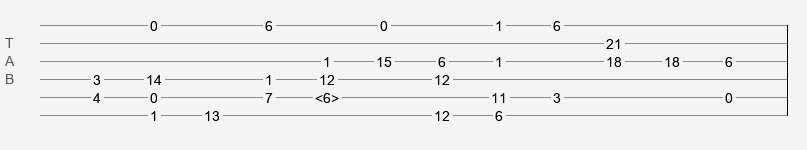0: (150, 18, 158, 28), (150, 90, 158, 100), (380, 18, 388, 28), (725, 90, 733, 100)
1: (150, 108, 158, 118), (265, 72, 273, 82), (323, 54, 331, 64), (495, 54, 503, 64), (495, 18, 503, 28)
11: (491, 90, 507, 100)
12: (319, 72, 335, 82), (434, 72, 450, 82), (434, 108, 450, 118)
13: (204, 108, 220, 118)
14: (146, 72, 162, 82)
15: (376, 54, 392, 64)
18: (606, 54, 622, 64), (664, 54, 680, 64)
21: (606, 36, 622, 46)
3: (93, 72, 101, 82), (553, 90, 561, 100)
4: (93, 90, 101, 100)
6: (265, 18, 273, 28), (438, 54, 446, 64), (495, 108, 503, 118), (553, 18, 561, 28), (725, 54, 733, 64)
7: (265, 90, 273, 100)
harmonic: (315, 90, 339, 100)
